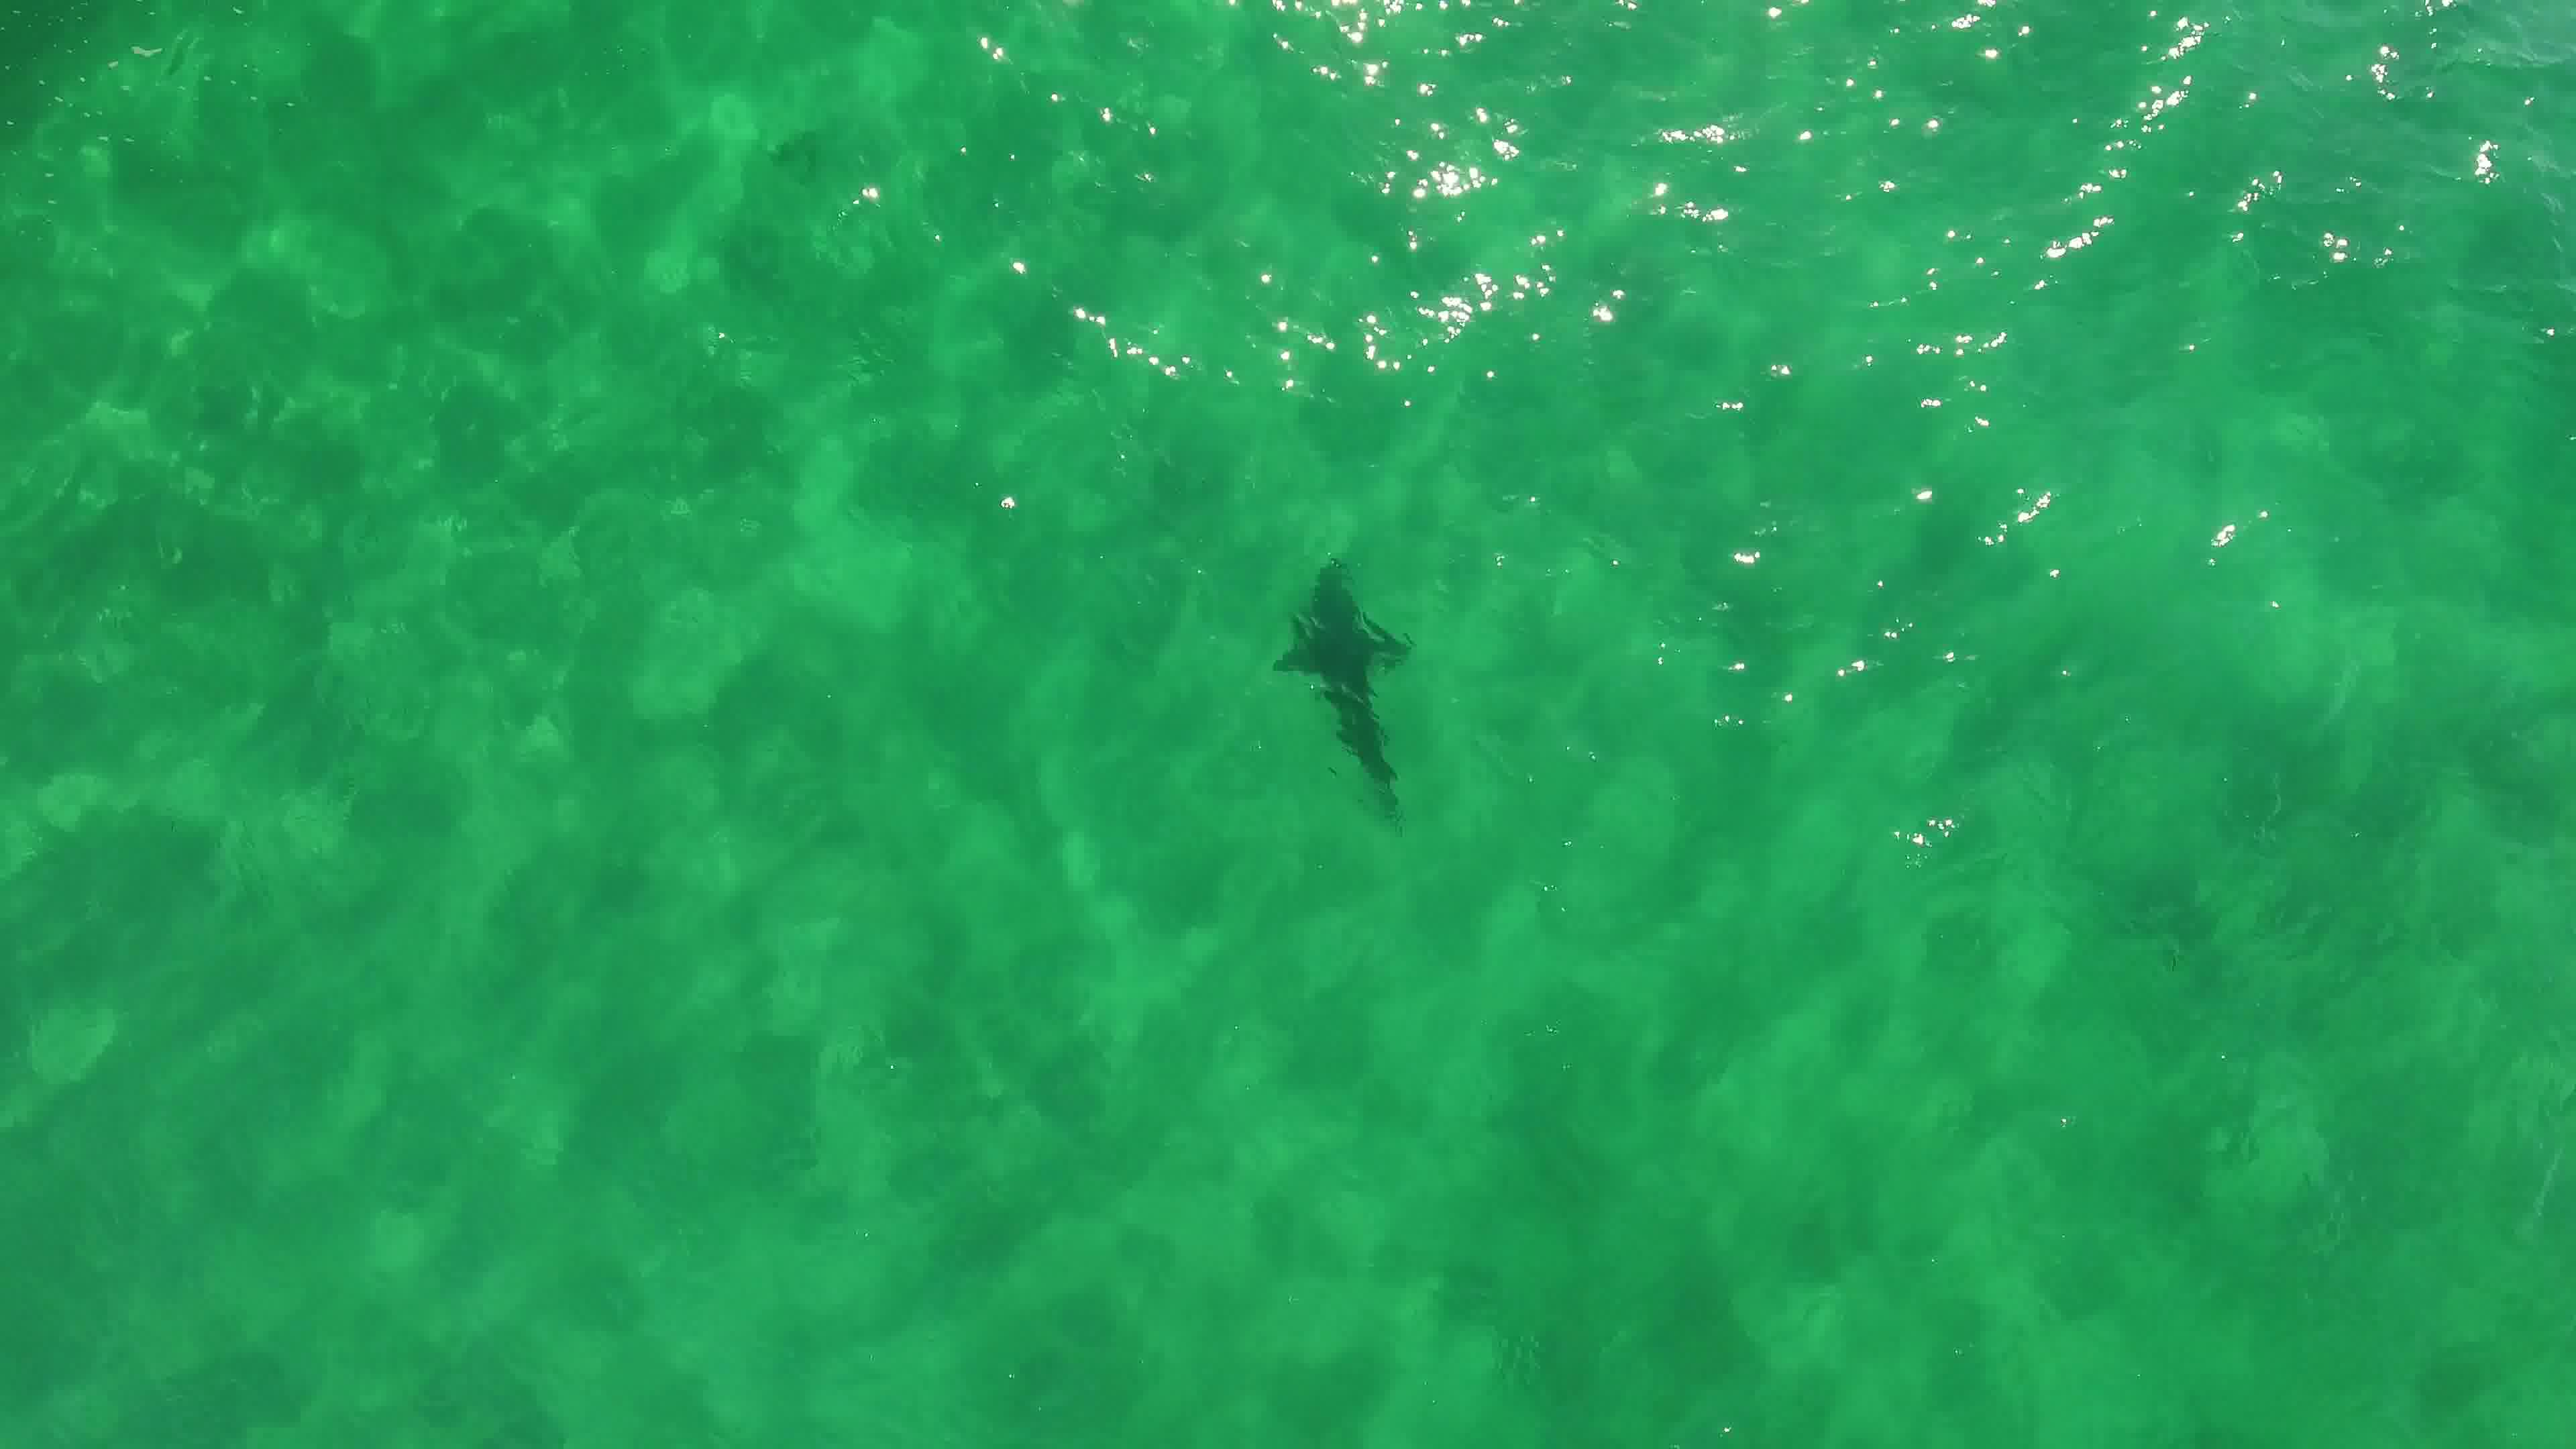shark: (1260, 550, 1421, 828)
